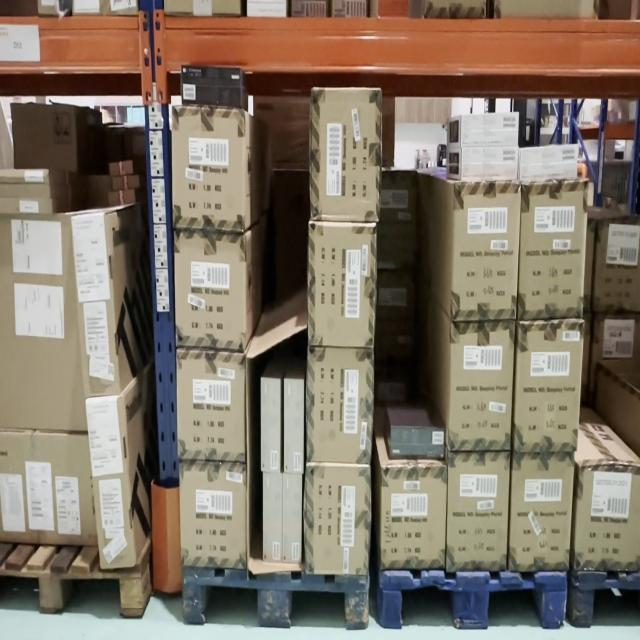box: (0, 216, 87, 433), (0, 431, 97, 548), (71, 214, 120, 398), (86, 396, 136, 571), (312, 89, 378, 220), (455, 183, 516, 318), (174, 109, 244, 226), (175, 231, 244, 349), (308, 229, 376, 345), (508, 452, 574, 571), (516, 323, 576, 450), (524, 184, 582, 314), (453, 324, 510, 449), (575, 466, 640, 572), (308, 351, 369, 463), (381, 466, 447, 569), (179, 352, 243, 458), (449, 452, 506, 571), (182, 462, 245, 567), (306, 469, 369, 572), (183, 65, 240, 104), (393, 426, 445, 462), (261, 378, 280, 472), (285, 379, 303, 473), (283, 475, 302, 560), (264, 473, 282, 561), (0, 199, 53, 214), (0, 168, 48, 184), (0, 184, 50, 197)
